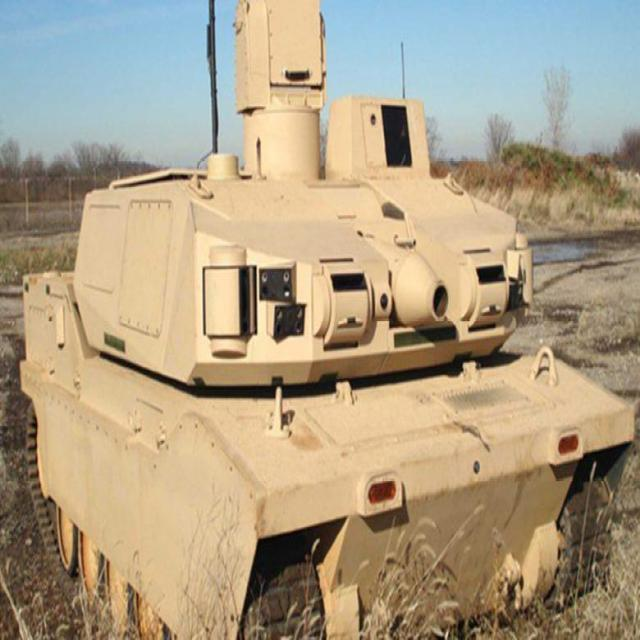MIL_MBT: (14, 28, 624, 620)
